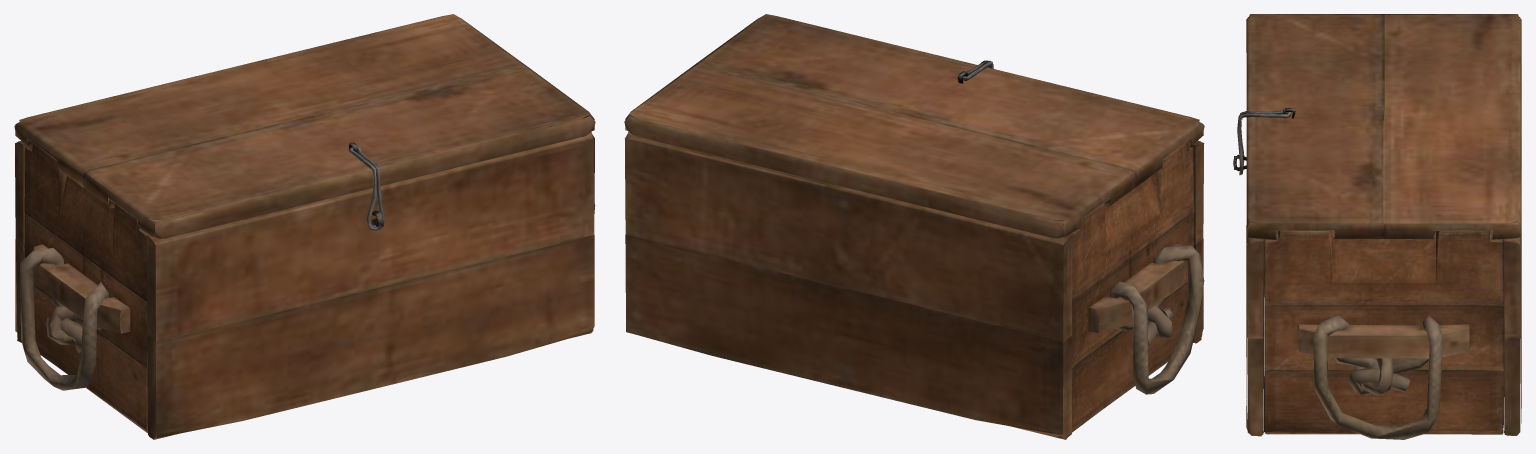
The model's file is wooden_crate_01.glb.
The picture shows the model from 3 angles, left to right: view 1: azimuth 30°, elevation 25°; view 2: azimuth 150°, elevation 25°; view 3: azimuth 270°, elevation 25°; orthographic projection. The views are drawn at different scales.
Visible parts, largest first — view 1: wooden_crate_01; view 2: wooden_crate_01; view 3: wooden_crate_01.
Boxes of the visible parts, box(x1,y1,x2,y2) form: wooden_crate_01: box(14, 14, 595, 439); wooden_crate_01: box(624, 14, 1204, 439); wooden_crate_01: box(1233, 14, 1521, 439).
Size of the model in its own units: 0.8202 by 0.3482 by 0.4076.
1 material, 1 textured.
